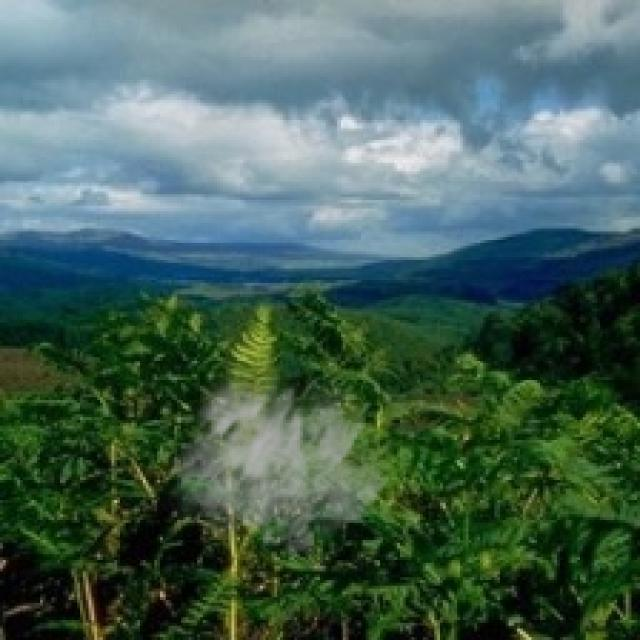smoke: (160, 343, 400, 563)
